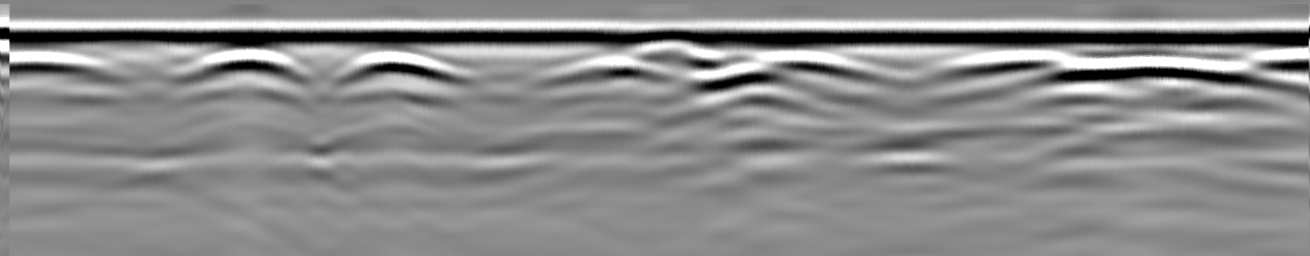pipe: (622, 31, 718, 60)
steel: (1075, 58, 1249, 85), (184, 51, 315, 84), (339, 52, 465, 83), (742, 52, 863, 77), (8, 52, 114, 80), (954, 51, 1066, 70)
